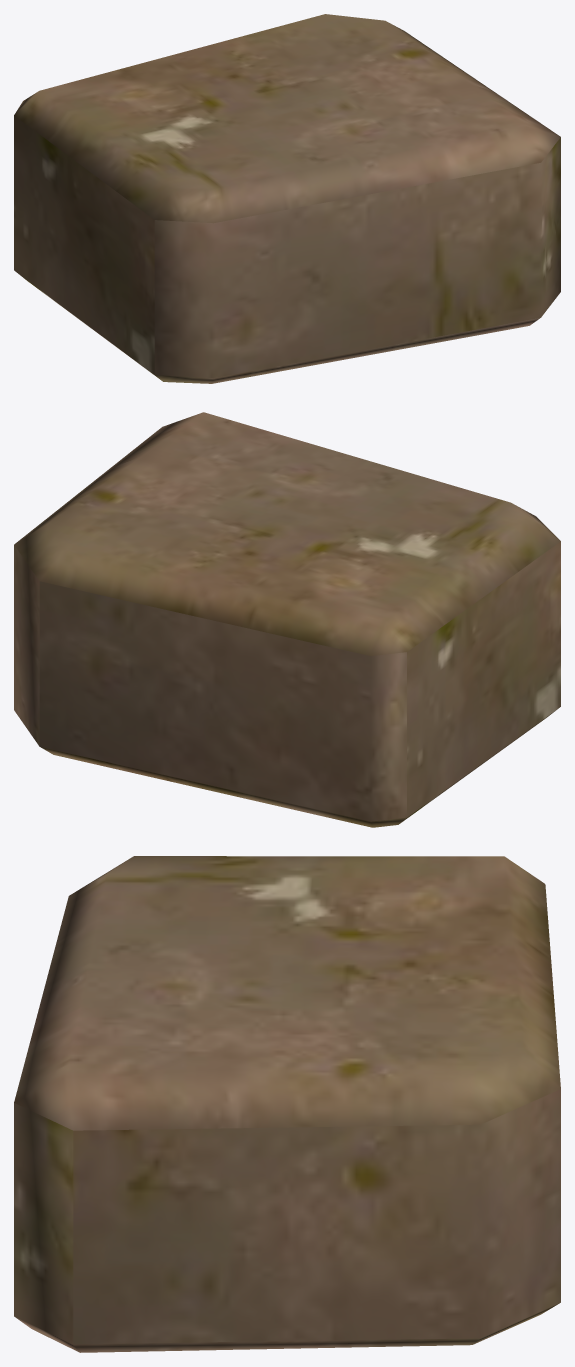
3 views of the same model, one above another, from view 1: azimuth 30°, elevation 25°; view 2: azimuth 150°, elevation 25°; view 3: azimuth 270°, elevation 25° (orthographic). The views are drawn at different scales.
Parts seen in each view (by area): view 1: SM_Human_Ruins_Floor_Slab_02_LOD0; view 2: SM_Human_Ruins_Floor_Slab_02_LOD0; view 3: SM_Human_Ruins_Floor_Slab_02_LOD0.
Boxes of the visible parts, x1=… form: SM_Human_Ruins_Floor_Slab_02_LOD0: x1=14, y1=14, x2=560, y2=383; SM_Human_Ruins_Floor_Slab_02_LOD0: x1=14, y1=412, x2=560, y2=827; SM_Human_Ruins_Floor_Slab_02_LOD0: x1=14, y1=856, x2=560, y2=1352.
Size of the model in its own units: 0.4742 by 0.2178 by 0.418.
Materials: 1 (1 with a texture image).
